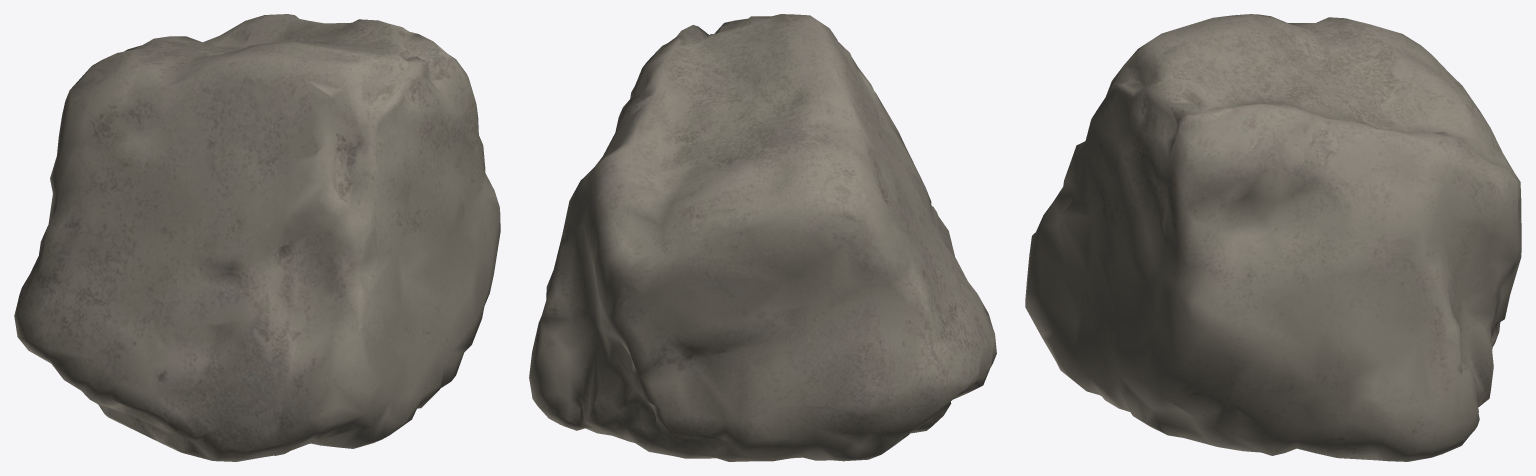
Rendered from moon_rock_02.glb.
3 renders of one model, left to right at view 1: azimuth 30°, elevation 25°; view 2: azimuth 150°, elevation 25°; view 3: azimuth 270°, elevation 25°, orthographic. The views are drawn at different scales.
Parts seen in each view (by area): view 1: moon_rock_02_LOD0; view 2: moon_rock_02_LOD0; view 3: moon_rock_02_LOD0.
Part boxes in pixels (x1,y1,x2,y2): moon_rock_02_LOD0: (14,14,500,461); moon_rock_02_LOD0: (529,14,996,461); moon_rock_02_LOD0: (1025,14,1521,461).
Size of the model in its own units: 0.2465 by 0.2019 by 0.2513.
1 material, 1 textured.
